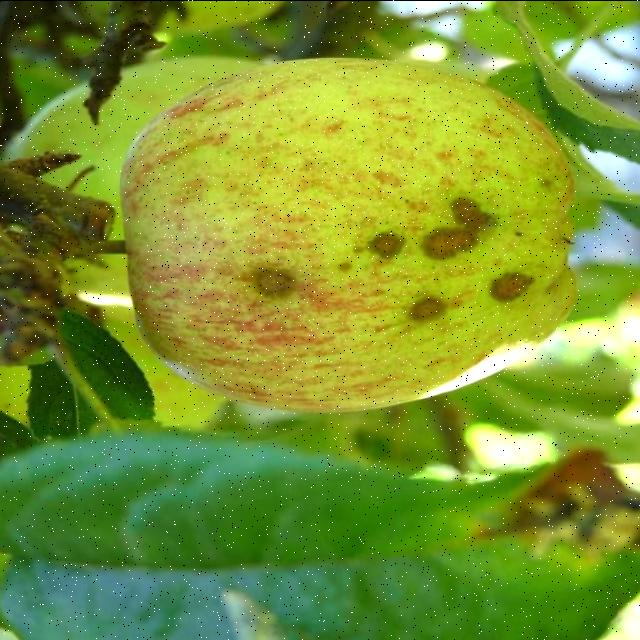SCAB: (93, 42, 597, 412)
